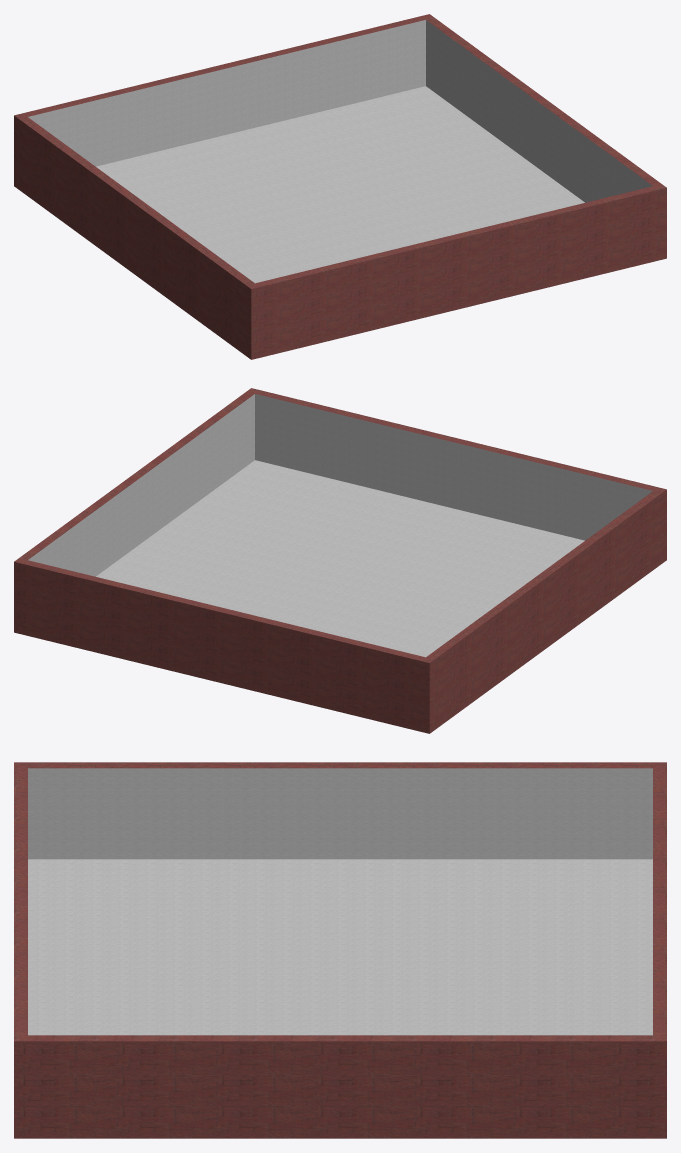
File: Post_Ozone_Contact_Tank_expansion.glb
The picture shows the model from 3 angles, top to bottom: view 1: azimuth 30°, elevation 25°; view 2: azimuth 150°, elevation 25°; view 3: azimuth 270°, elevation 25°; orthographic projection. The views are drawn at different scales.
Visible parts, largest first — view 1: Floor1; view 2: Floor1; view 3: Floor1.
Part boxes in pixels (x1=…): Floor1: x1=14, y1=14, x2=666, y2=359; Floor1: x1=14, y1=388, x2=666, y2=733; Floor1: x1=14, y1=762, x2=666, y2=1138.
Size of the model in its own units: 38.07 by 6.2 by 37.66.
2 materials, 2 textured.
